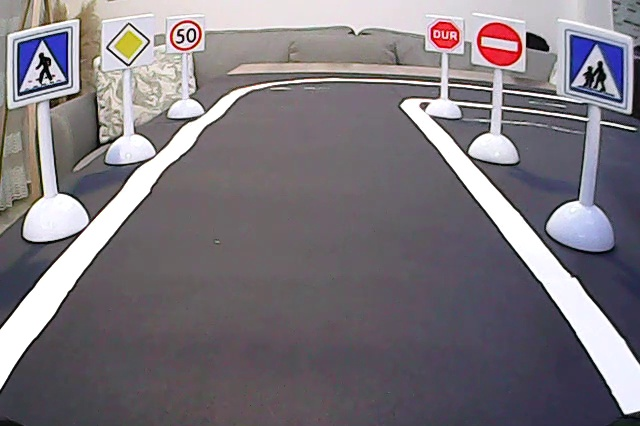do not enter: (472, 16, 524, 71)
pedestrian crossing: (9, 31, 76, 96)
school crossing: (565, 25, 630, 105)
speed limit 50: (166, 18, 206, 52)
stop sign: (428, 16, 461, 52)
